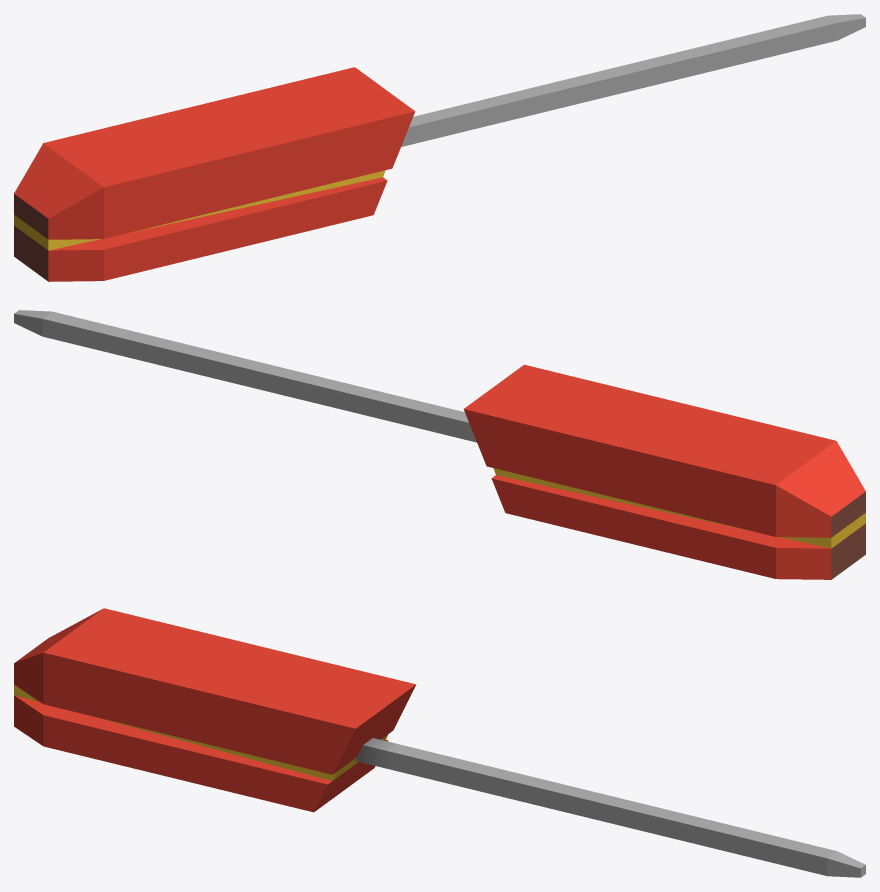
Rendered from Screwdriver.fbx.
3 renders of one model, top to bottom at view 1: azimuth 30°, elevation 25°; view 2: azimuth 150°, elevation 25°; view 3: azimuth 330°, elevation 25°, orthographic.
Visible parts, largest first — view 1: Screwdriver; view 2: Screwdriver; view 3: Screwdriver.
Boxes of the visible parts, x1,y1,x2,y2 form: Screwdriver: (14, 14, 865, 281); Screwdriver: (14, 310, 865, 579); Screwdriver: (14, 608, 865, 877).
Bounding box in the file's own units: 80.22 × 8.64 × 10.12.
